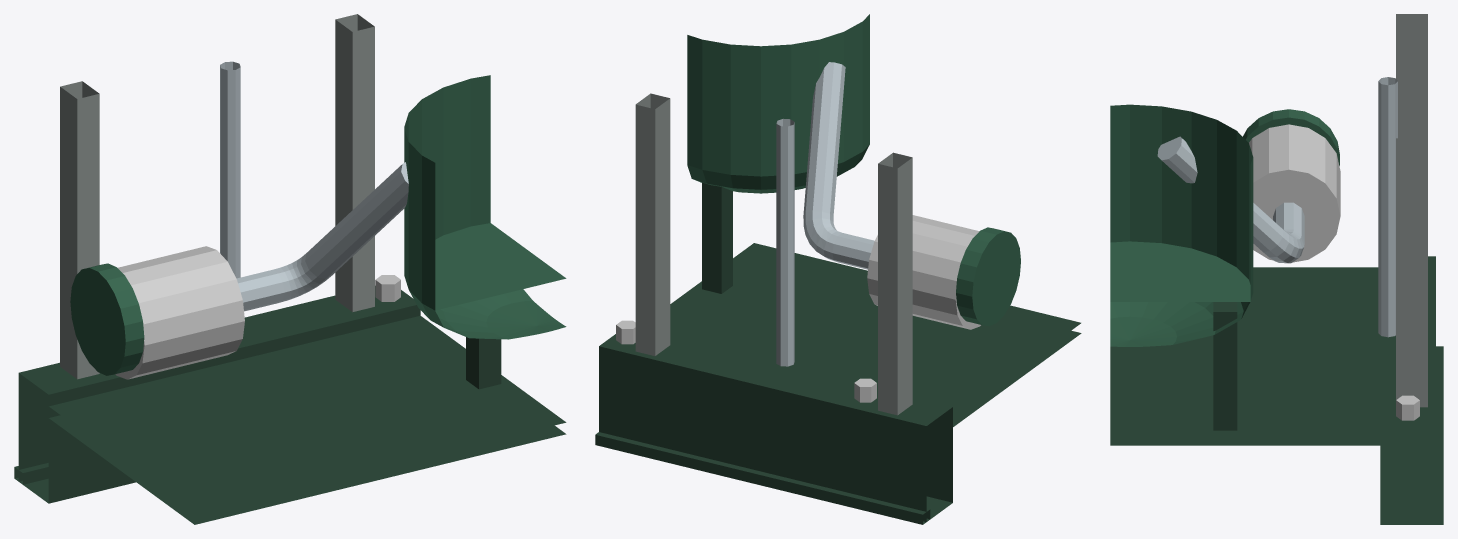
File: cell_3.obj
The picture shows the model from 3 angles, left to right: view 1: azimuth 30°, elevation 25°; view 2: azimuth 150°, elevation 25°; view 3: azimuth 270°, elevation 25°; orthographic projection. The views are drawn at different scales.
Bounding box in the file's own units: 1 × 1 × 0.84.
